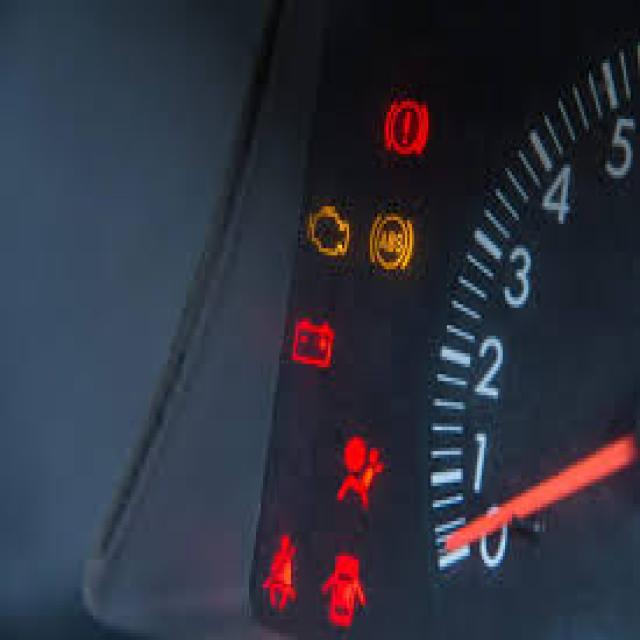kontrolka: (372, 82, 439, 170), (332, 418, 386, 522), (366, 206, 421, 283), (301, 192, 356, 268), (288, 308, 340, 382)
